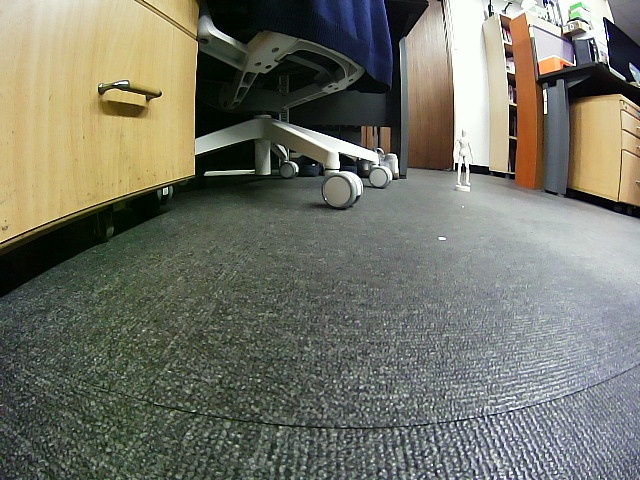person: (453, 127, 474, 187)
